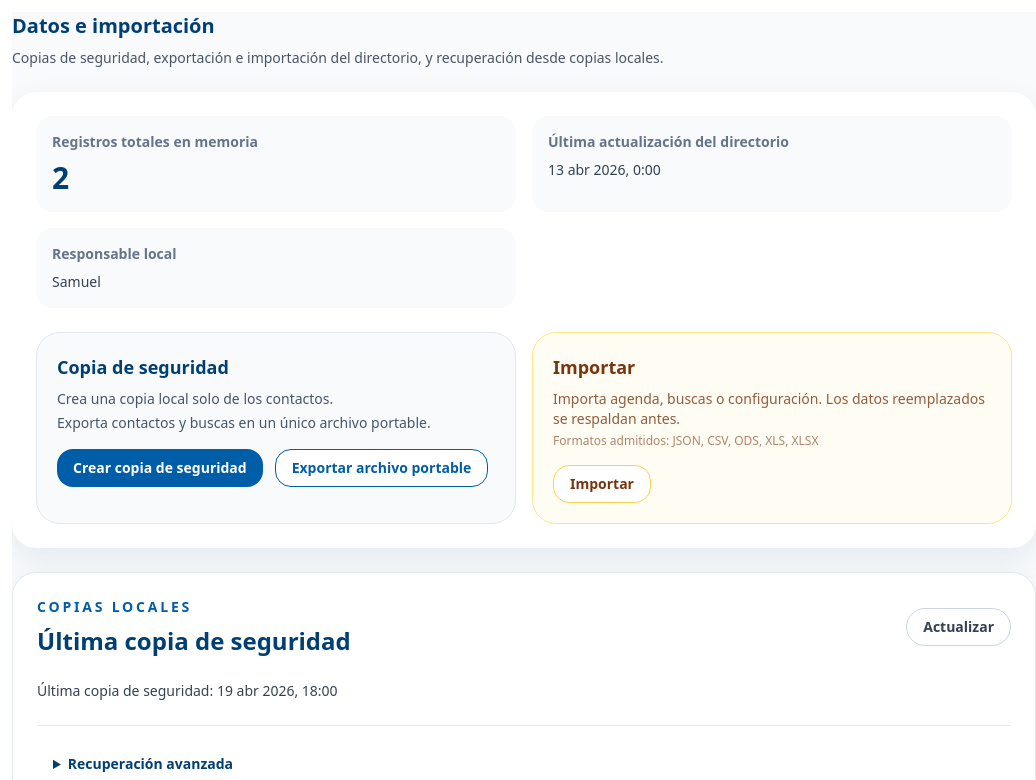
Test: DataManagementSection (Configuración data section) › creates a backup and shows success feedback
The width and height of the screenshot is (1036, 780).
Expected: the heading "Datos e importación" is shown, 12,12 -> 215,39
Step 1. Click the button "Crear copia de seguridad" → [160, 468], box 57,449 -> 263,487
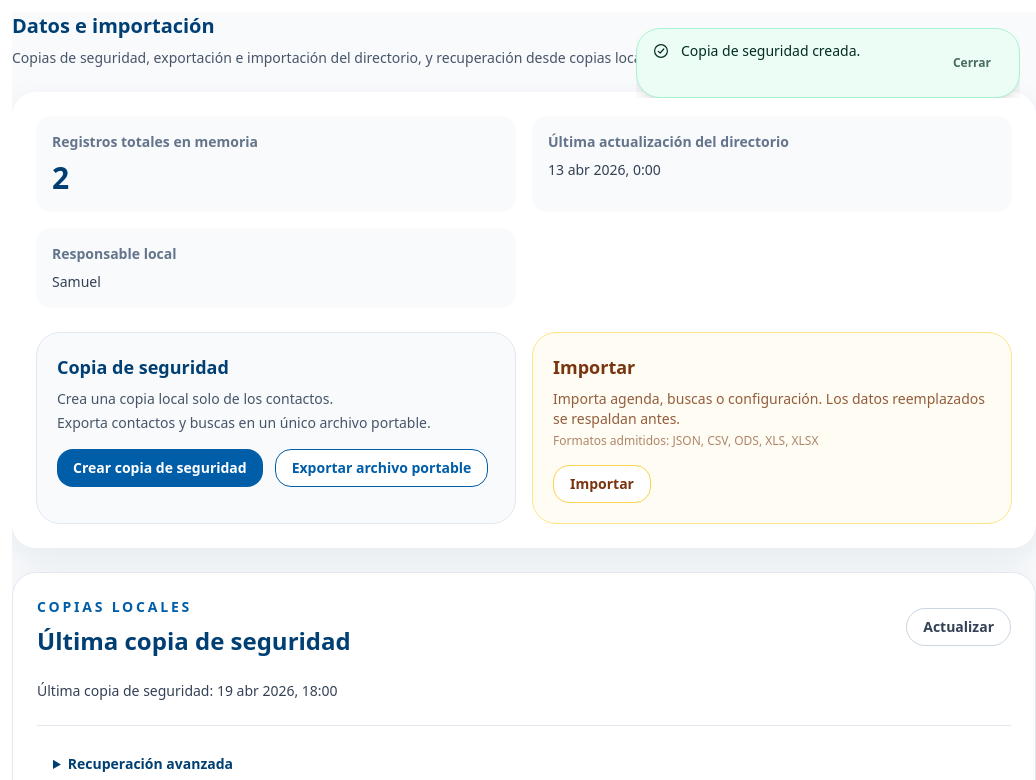
Now the text "Copia de seguridad creada." is shown, box 681,41 -> 860,60
